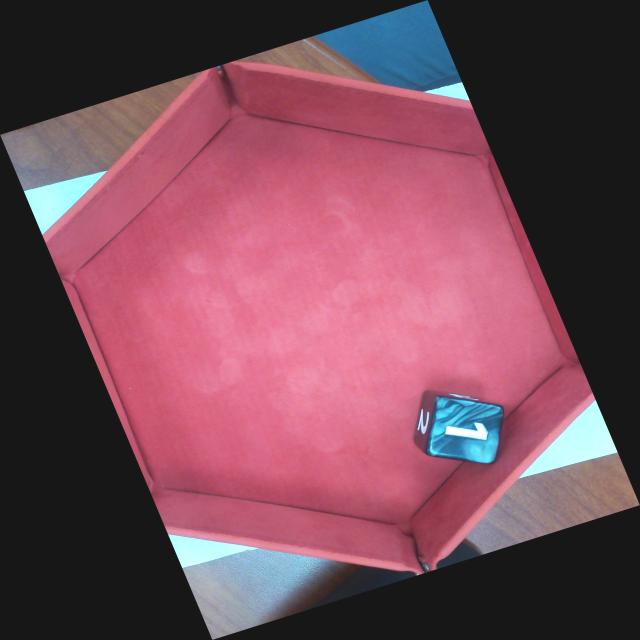dice: (424, 394, 505, 466)
